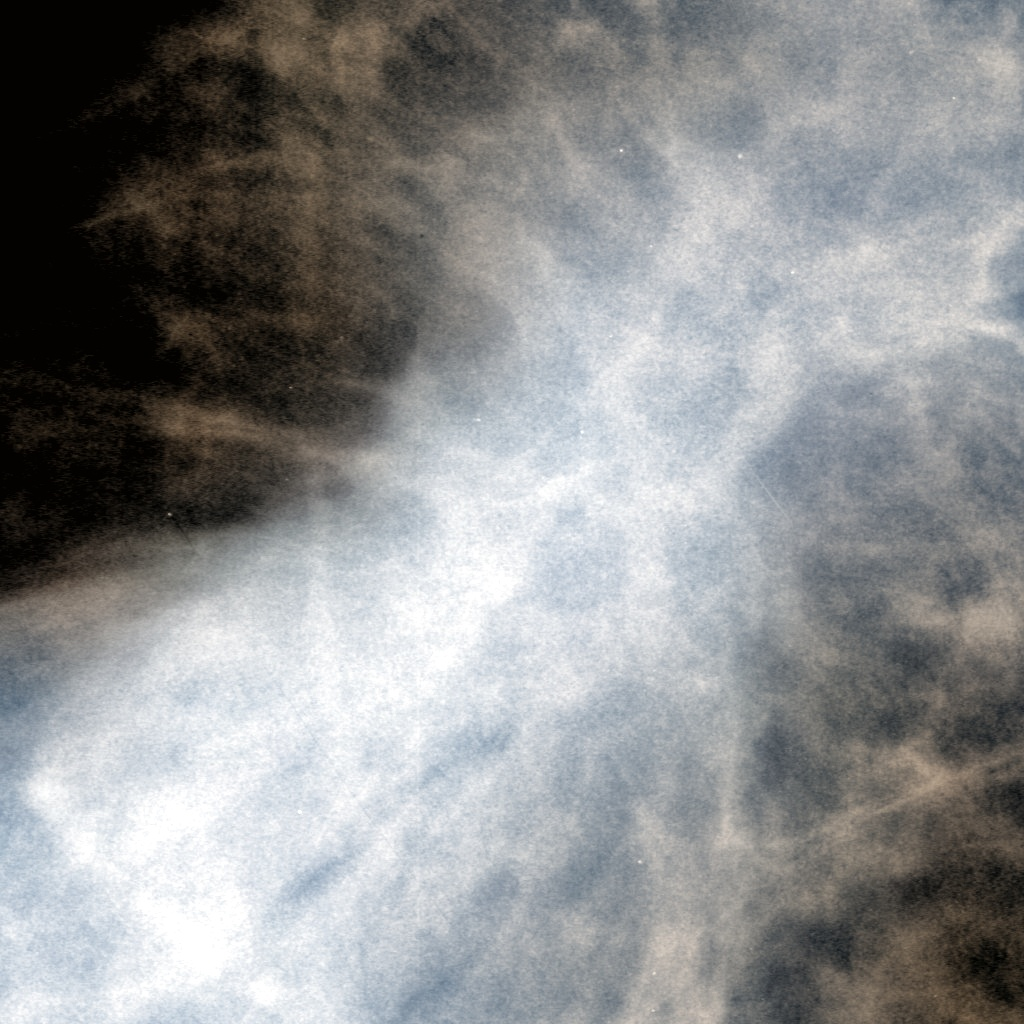tumor: (7, 108, 1017, 916)
